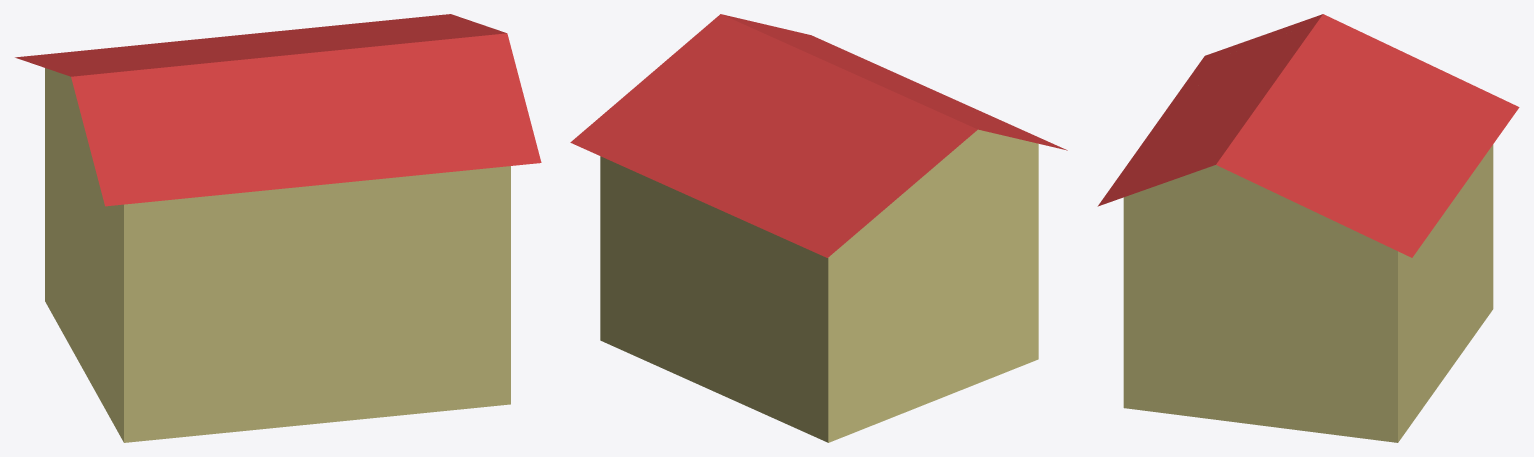
3 views of the same model, side by side, from view 1: azimuth 30°, elevation 25°; view 2: azimuth 150°, elevation 25°; view 3: azimuth 270°, elevation 25° (orthographic). The views are drawn at different scales.
Parts seen in each view (by area): view 1: group_5, group_3, group_4; view 2: group_5, group_3, group_4; view 3: group_5, group_3, group_4.
Part boxes in pixels (x1,y1,x2,y2): group_5: (45, 68, 510, 442); group_3: (15, 14, 541, 206); group_4: (71, 32, 505, 206); group_5: (600, 129, 1038, 442); group_3: (570, 14, 1061, 257); group_4: (712, 14, 1067, 150); group_5: (1123, 144, 1493, 442); group_3: (1097, 14, 1519, 257); group_4: (1179, 14, 1322, 170).
Bounding box in the file's own units: 16.02 × 14.98 × 10.35.
